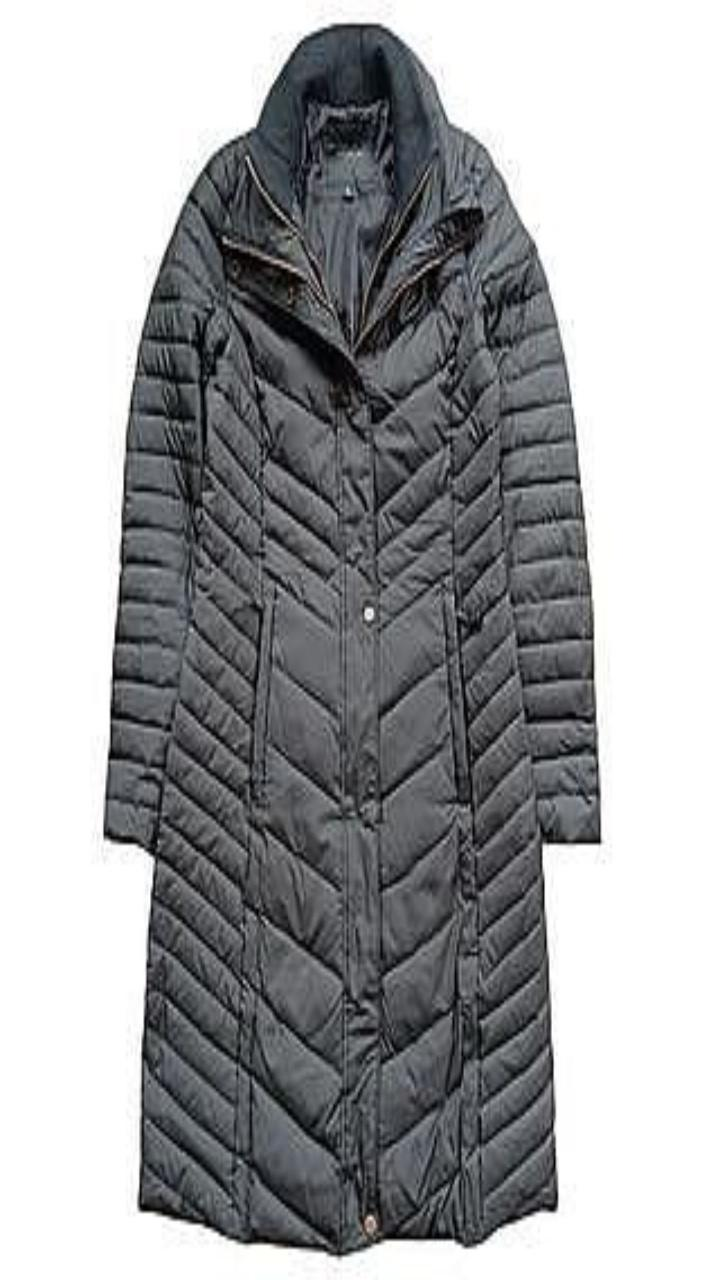Coat: (104, 24, 599, 1253)
